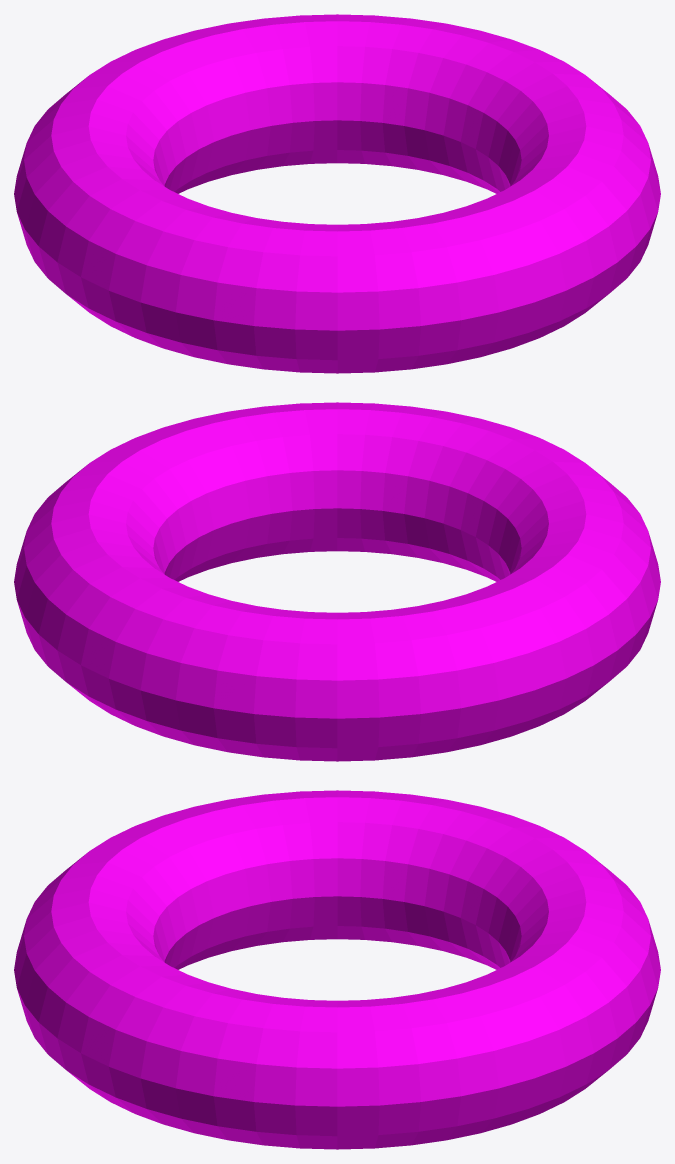
3 views of the same model, one above another, from view 1: azimuth 30°, elevation 25°; view 2: azimuth 150°, elevation 25°; view 3: azimuth 270°, elevation 25° (orthographic).
Visible parts, largest first — view 1: torus; view 2: torus; view 3: torus.
Part boxes in pixels (x1=…): torus: x1=14, y1=14, x2=660, y2=373; torus: x1=14, y1=402, x2=660, y2=761; torus: x1=14, y1=790, x2=660, y2=1149.
Bounding box in the file's own units: 2.6 × 0.6 × 2.6.
